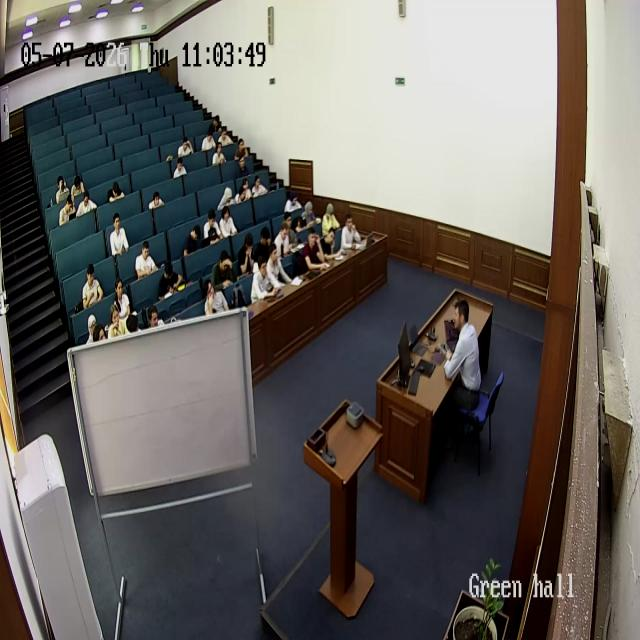person: (439, 298, 483, 449), (250, 251, 276, 305), (300, 225, 328, 275), (212, 248, 240, 297), (267, 242, 293, 290), (157, 259, 183, 301), (82, 263, 105, 309), (274, 216, 298, 259), (204, 277, 230, 315), (341, 210, 364, 252), (134, 239, 158, 279), (112, 275, 132, 321), (237, 232, 257, 277), (110, 213, 130, 258), (254, 222, 276, 262), (202, 206, 224, 244), (108, 300, 130, 337), (182, 223, 204, 260), (321, 222, 341, 260), (218, 203, 238, 238), (76, 188, 98, 218), (59, 191, 77, 227), (320, 202, 340, 234), (144, 305, 166, 328), (300, 200, 318, 228), (218, 185, 236, 212), (284, 187, 302, 214), (55, 175, 71, 205), (70, 174, 86, 204), (86, 315, 103, 343), (216, 122, 234, 148), (234, 145, 250, 174), (106, 180, 126, 203), (250, 174, 268, 199), (201, 125, 217, 153), (147, 191, 166, 213), (211, 140, 227, 166), (234, 137, 250, 163), (124, 311, 142, 334), (176, 136, 194, 159), (236, 180, 252, 204), (173, 156, 188, 180)
